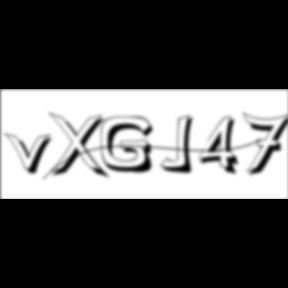4: (198, 115, 246, 179)
G: (102, 116, 160, 176)
J: (162, 114, 200, 176)
X: (48, 112, 112, 182)
v: (5, 131, 59, 177)
